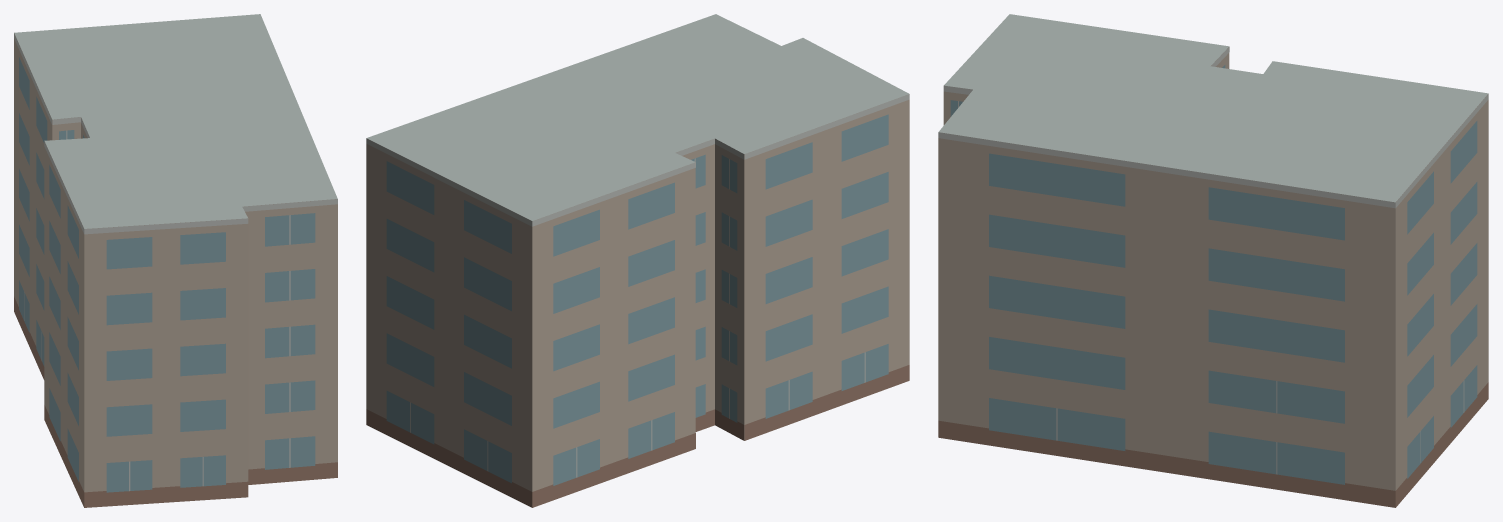
File: survey-upis-32666136.glb
3 views of the same model, side by side, from view 1: azimuth 30°, elevation 25°; view 2: azimuth 150°, elevation 25°; view 3: azimuth 270°, elevation 25° (orthographic). The views are drawn at different scales.
Parts seen in each view (by area): view 1: survey-upis-32666136.tmp; view 2: survey-upis-32666136.tmp; view 3: survey-upis-32666136.tmp.
Part boxes in pixels (x1=…): survey-upis-32666136.tmp: x1=14, y1=14, x2=337, y2=507; survey-upis-32666136.tmp: x1=366, y1=14, x2=909, y2=507; survey-upis-32666136.tmp: x1=938, y1=14, x2=1488, y2=507.
Bounding box in the file's own units: 16.64 × 12.58 × 20.54.
